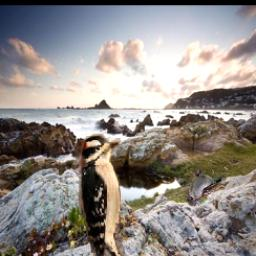Sparrow: (184, 168, 227, 207)
Woodpecker: (79, 131, 137, 256)
